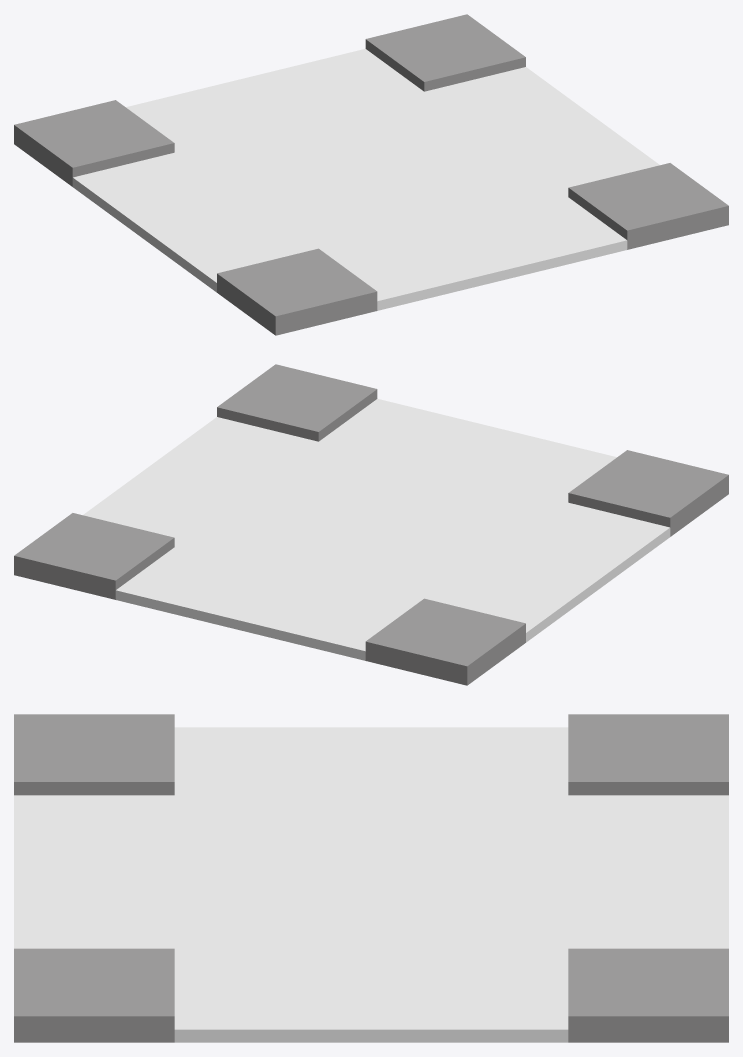
File: road_I_49.gltf
3 views of the same model, one above another, from view 1: azimuth 30°, elevation 25°; view 2: azimuth 150°, elevation 25°; view 3: azimuth 270°, elevation 25° (orthographic). The views are drawn at different scales.
Parts seen in each view (by area): view 1: tar, stone, ink; view 2: tar, stone, ink; view 3: tar, stone, ink.
Part boxes in pixels (bbox=[...]): tar: bbox=[78, 51, 659, 308]; stone: bbox=[14, 14, 728, 335]; ink: bbox=[72, 48, 627, 310]; tar: bbox=[83, 401, 664, 658]; stone: bbox=[14, 364, 728, 685]; ink: bbox=[111, 398, 670, 660]; tar: bbox=[14, 727, 728, 1042]; stone: bbox=[14, 714, 728, 1042]; ink: bbox=[14, 727, 728, 1042].
Bounding box in the file's own units: 49 × 2 × 49.
3 materials, 3 textured.
